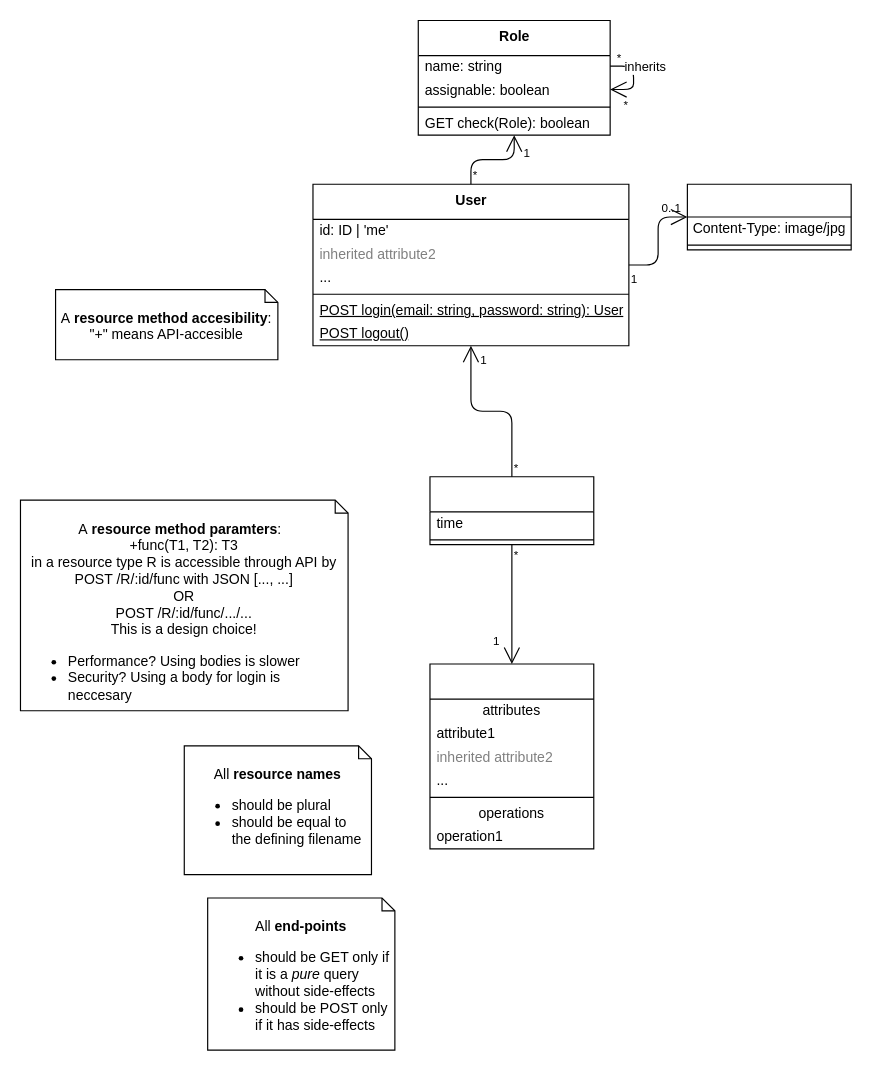
This 872x1071 diagram has some shape labels left out. The shapes that lost their labels are listed below. From the top down, each one's box as (x1, y1, x2, y2) in pixels, then its label:
(686, 183, 851, 250): Avatar
(429, 476, 594, 545): Vote
(429, 663, 594, 849): Poll
